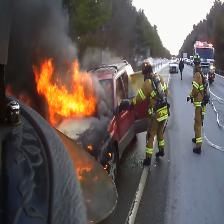fire: (24, 53, 105, 134)
nofire: (113, 105, 149, 151), (191, 37, 218, 55)
smoke: (1, 0, 102, 76)
